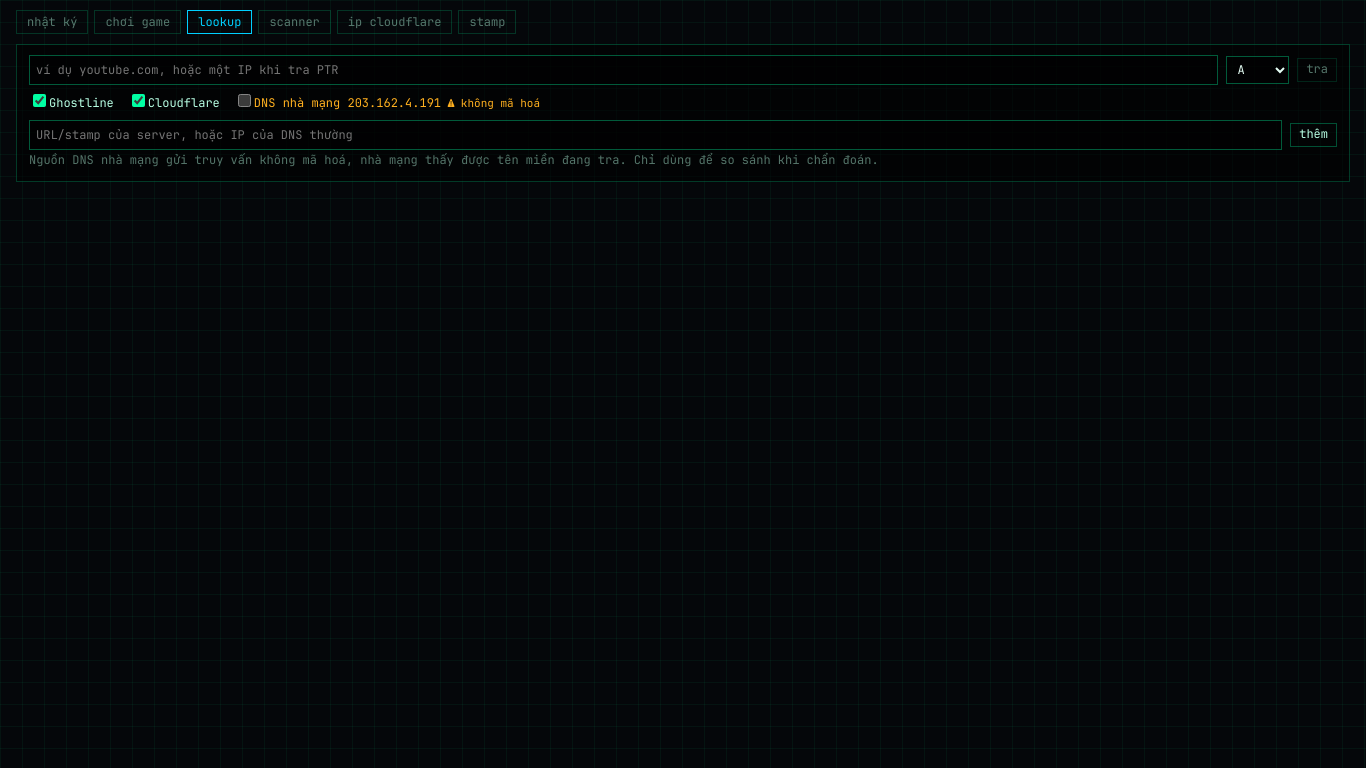
Scenario: a lookup sends the checked sources and shows the poisoned verdict
Click the checkbox labelled "DNS nhà mạng 203.162.4.191 ⚠ không mã hoá" at (244, 101), box [238, 94, 251, 107]
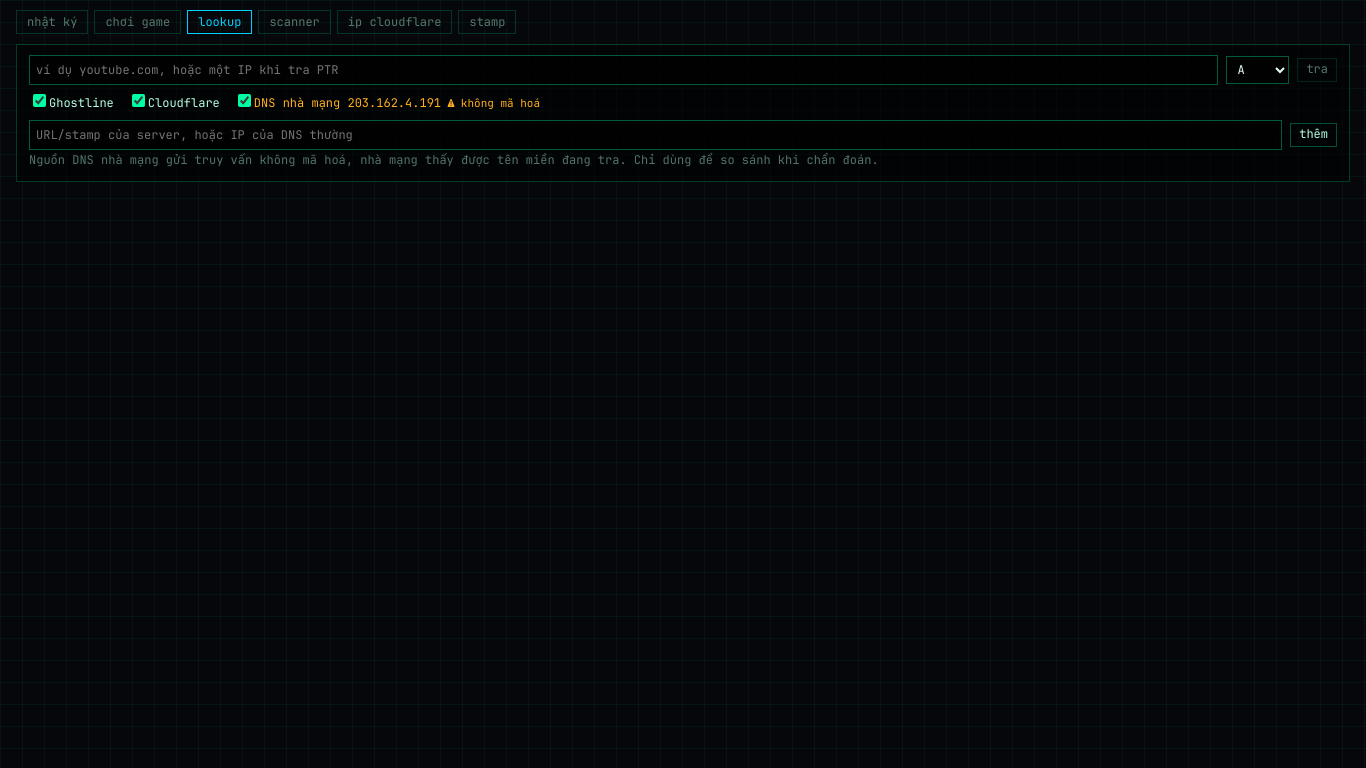
Click the checkbox labelled "Ghostline" at (40, 101), box [33, 94, 46, 107]
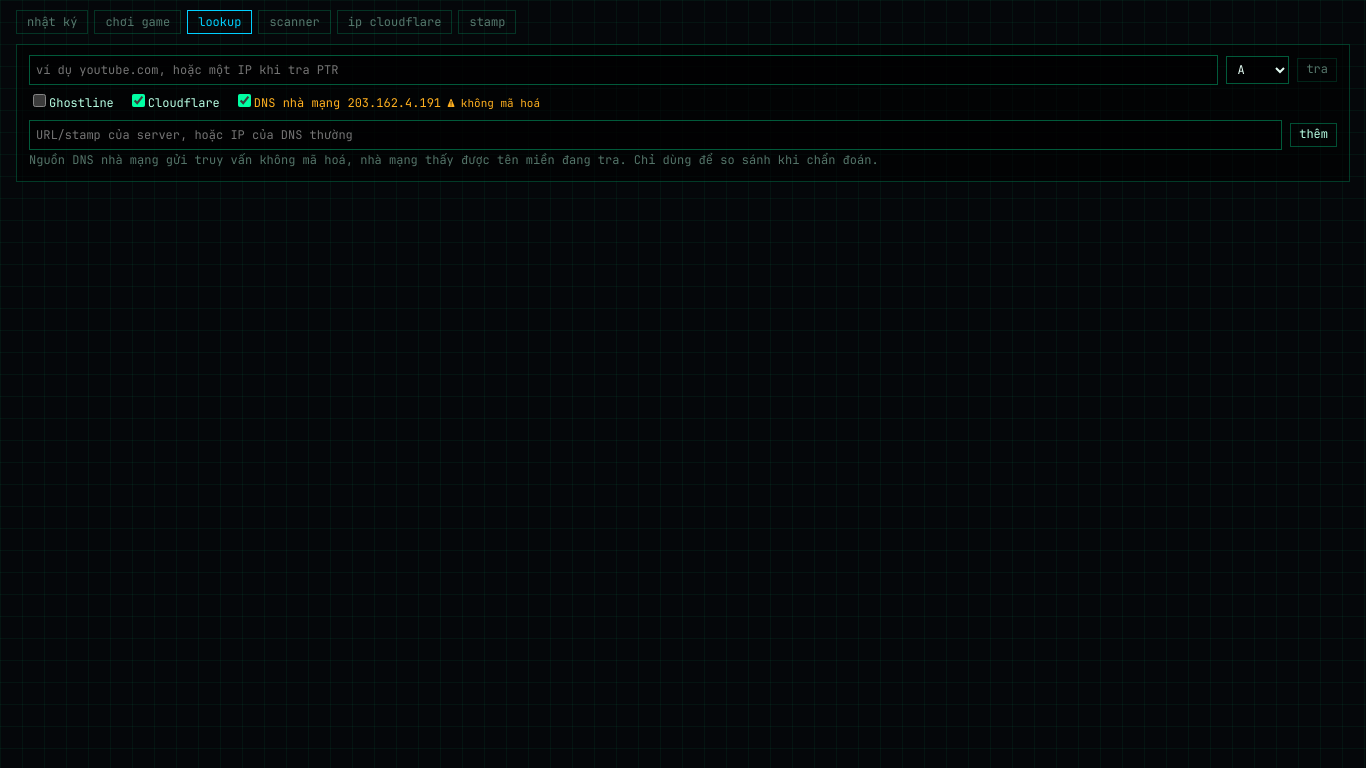
Type "youtube.com" into the field named "tên miền" at (624, 70), box [29, 55, 1218, 85]
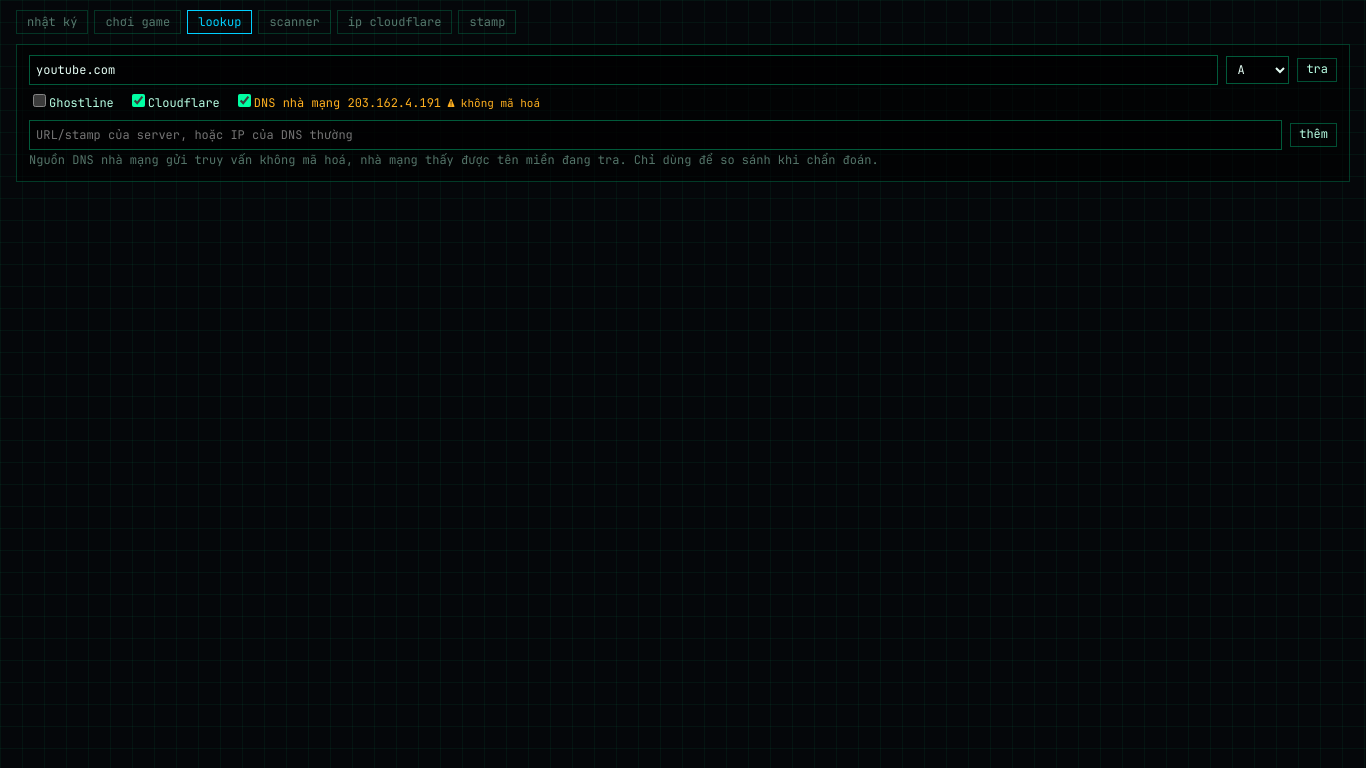
Click the button "tra" at (1317, 70), box [1297, 58, 1337, 82]
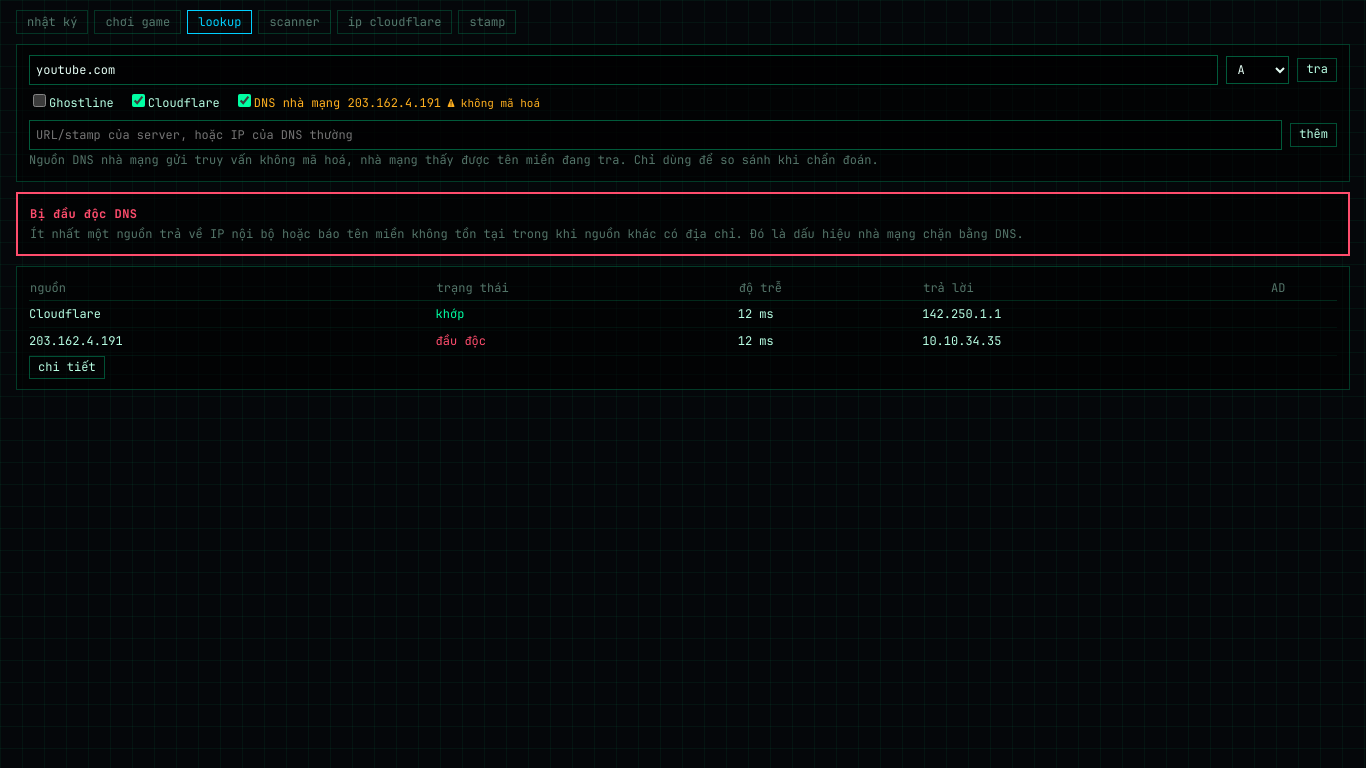
Result: the text "Bị đầu độc DNS" is shown at [30, 206, 138, 222]
Result: the text "10.10.34.35" is shown at [922, 333, 1001, 349]
